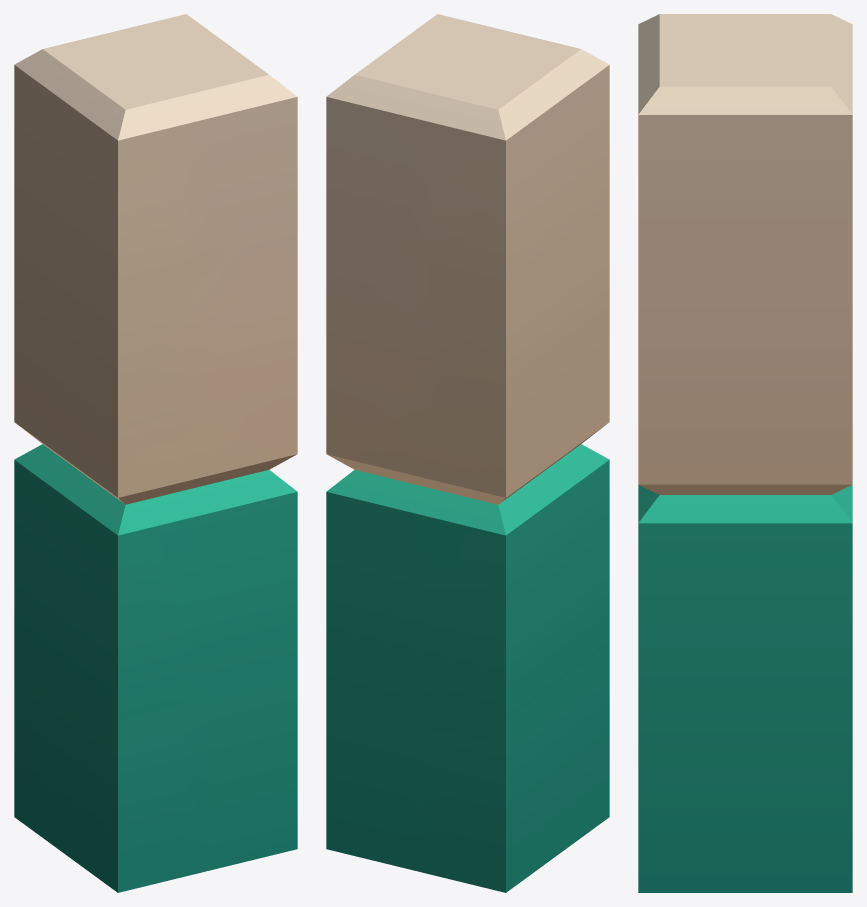
The model's file is kkr.pillar_b.glb.
3 views of the same model, side by side, from view 1: azimuth 30°, elevation 25°; view 2: azimuth 150°, elevation 25°; view 3: azimuth 270°, elevation 25° (orthographic). The views are drawn at different scales.
Visible parts, largest first — view 1: pillar_B; view 2: pillar_B; view 3: pillar_B.
Part boxes in pixels (<box>): pillar_B: <box>14,14,297,892</box>; pillar_B: <box>326,14,609,892</box>; pillar_B: <box>638,14,852,892</box>.
Bounding box in the file's own units: 0.745 × 3.05 × 0.745.
Materials: 1 (1 with a texture image).
